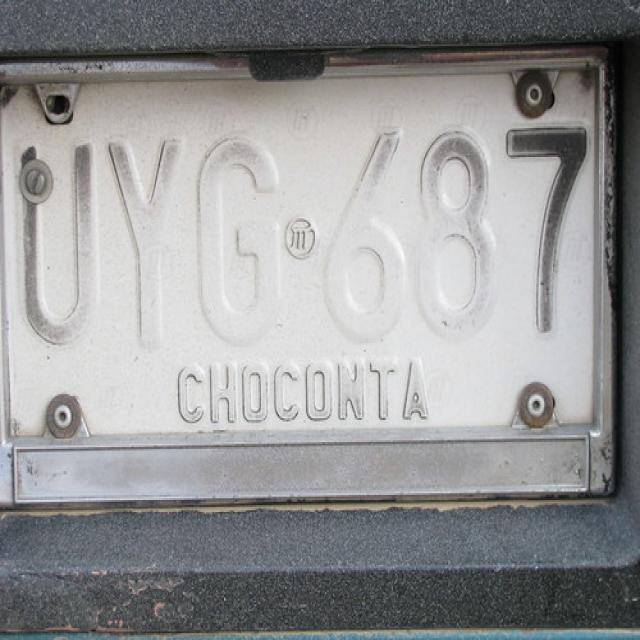placas: (5, 52, 597, 356)
